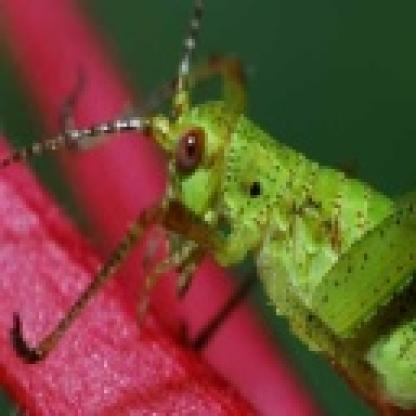grasshopper: (5, 2, 416, 412)
